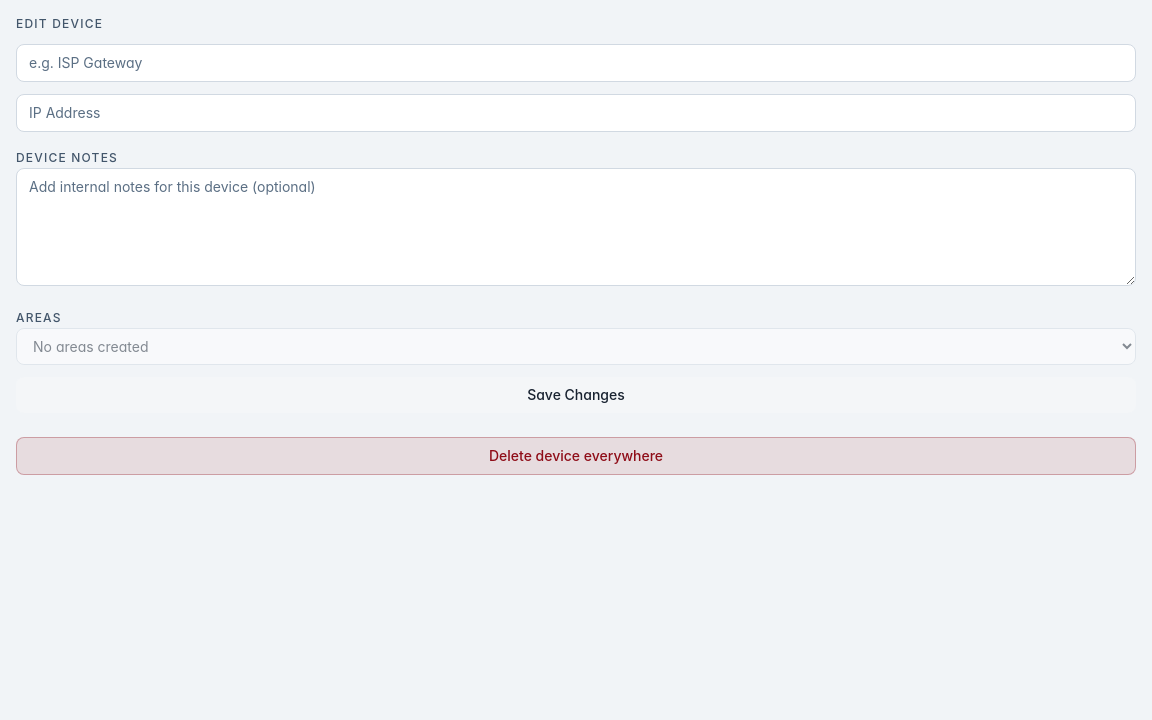
DeviceConfigPanel — polling override › requires a display name when editing virtual devices
Click the button "Save Changes" at (576, 395), box x1=16 y1=377 x2=1136 y2=413
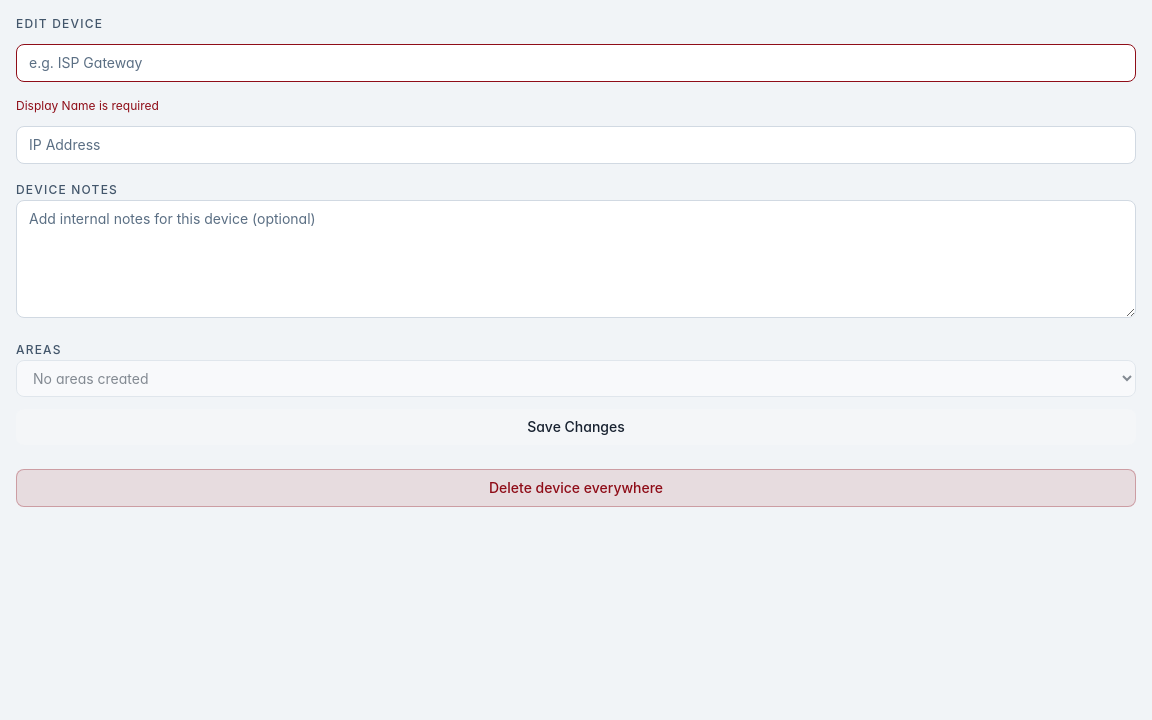
Expected: the text "Display Name is required" is shown, x1=16 y1=98 x2=159 y2=113
